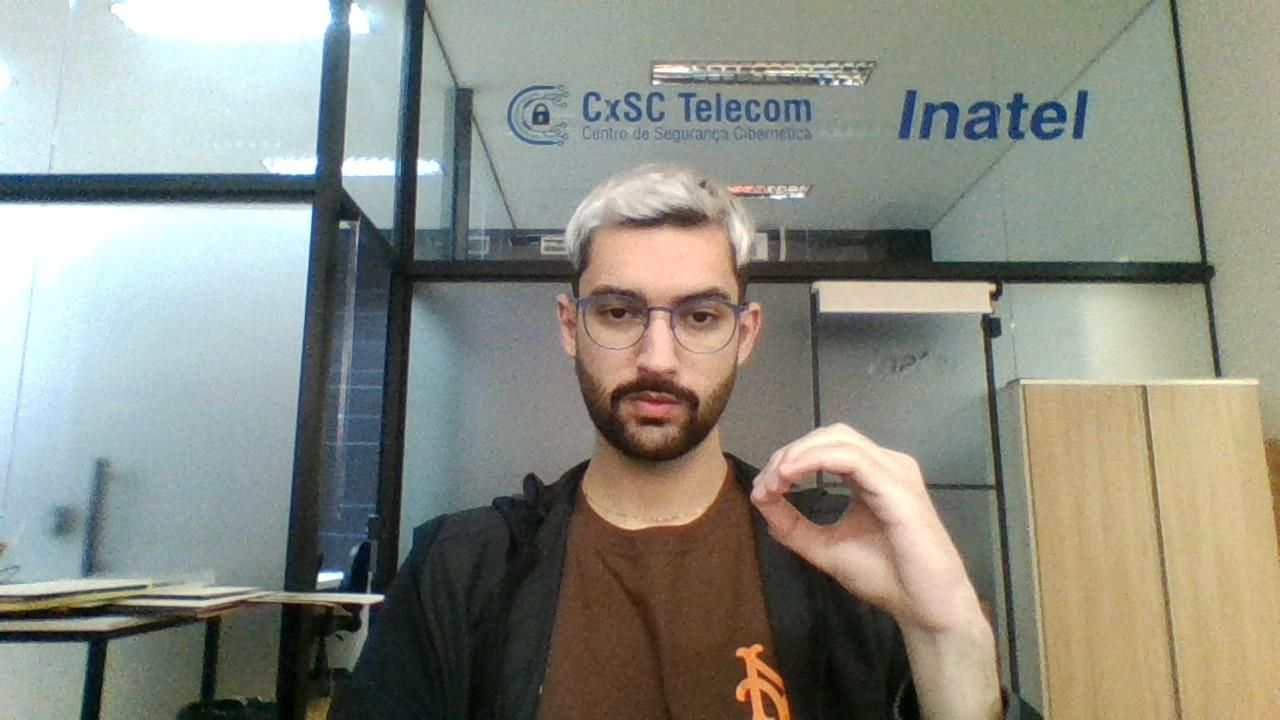O: (738, 422, 976, 624)
